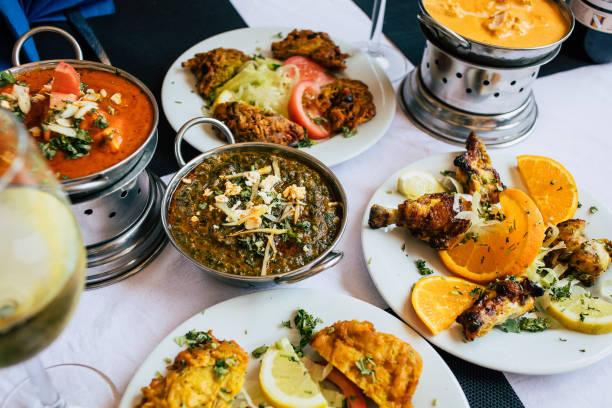Braised Crucian Carp: (362, 147, 612, 372), (160, 26, 388, 171), (159, 142, 349, 289)
